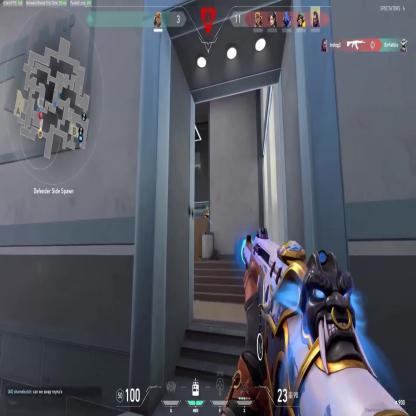enemy: (204, 205, 209, 233)
enemy_head: (206, 205, 209, 211)
